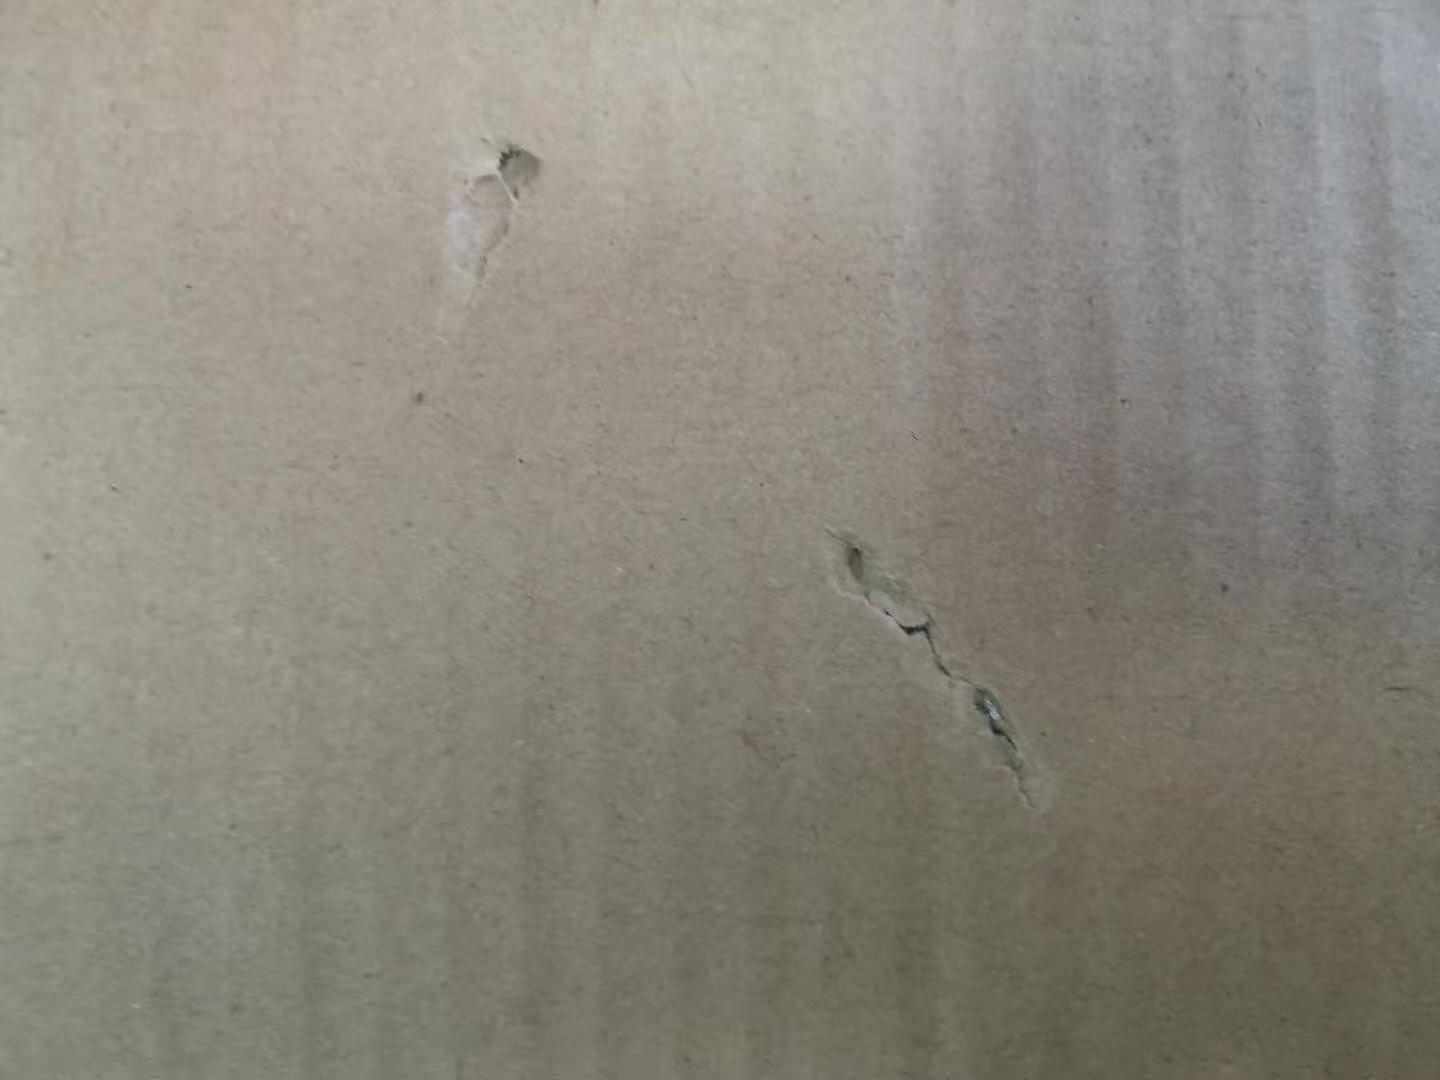defect: (798, 503, 1083, 849), (400, 106, 578, 363)
